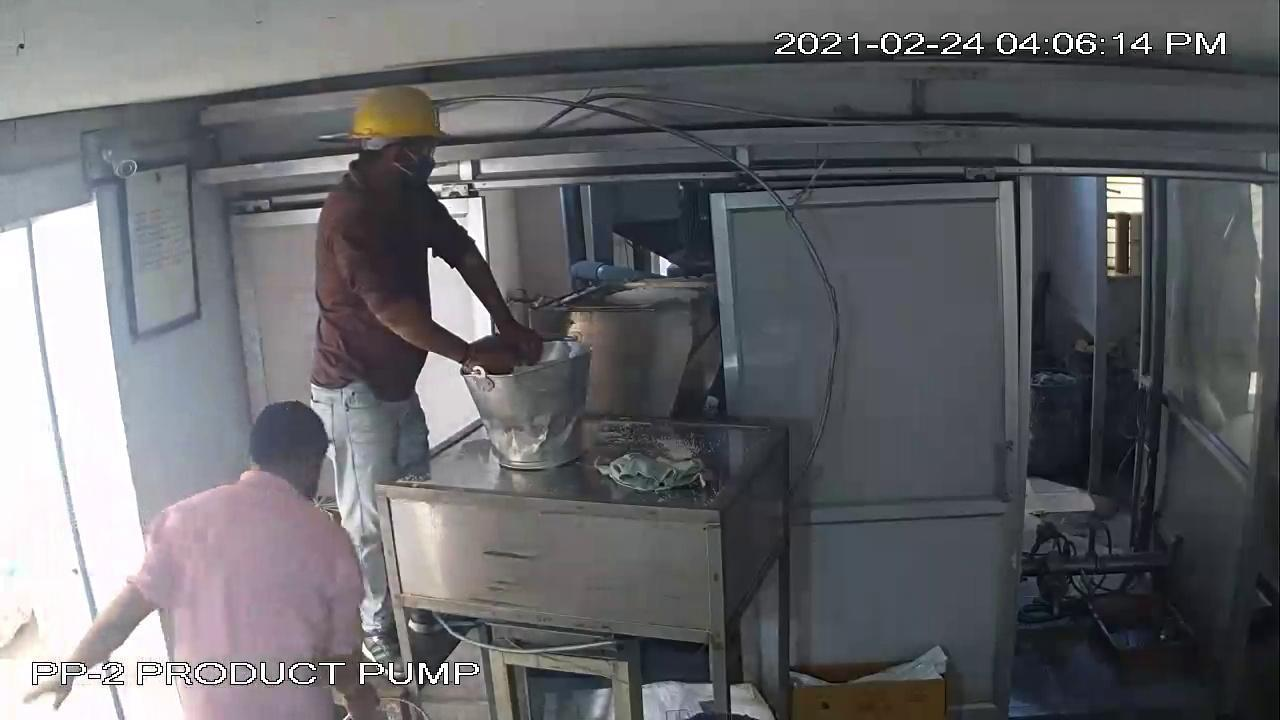helmet: (335, 74, 457, 159)
